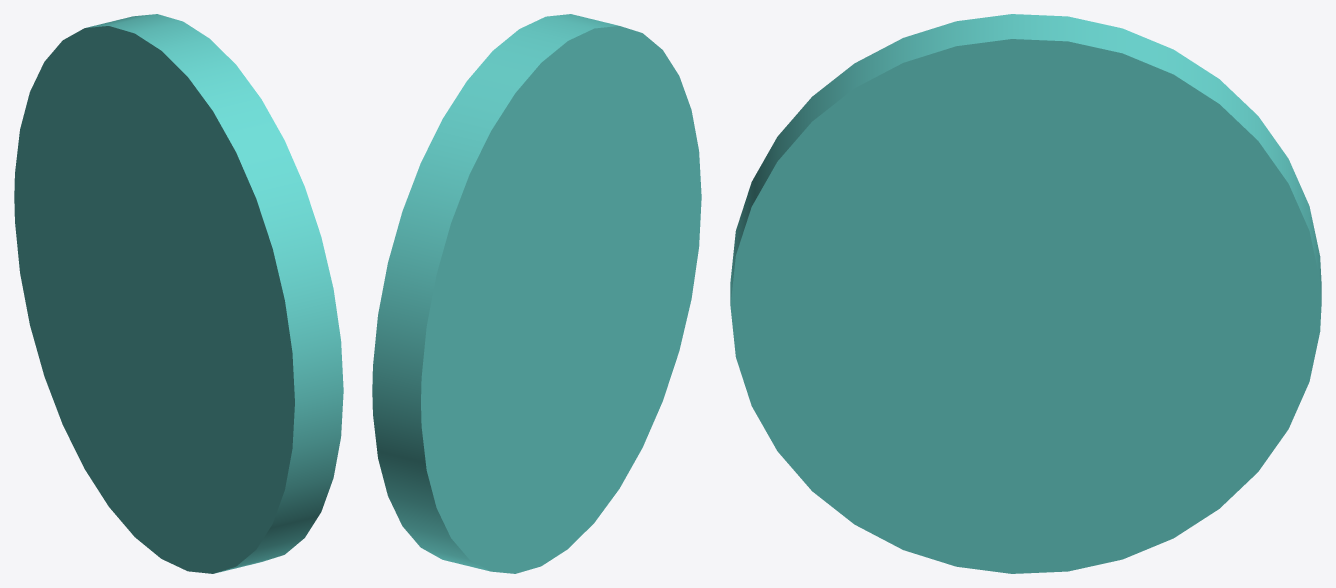
Rendered from Wheel_right.gltf.
The picture shows the model from 3 angles, left to right: view 1: azimuth 30°, elevation 25°; view 2: azimuth 150°, elevation 25°; view 3: azimuth 270°, elevation 25°; orthographic projection. The views are drawn at different scales.
Parts seen in each view (by area): view 1: mesh2, mesh1; view 2: mesh2, mesh1; view 3: mesh0, mesh1.
Boxes of the visible parts, left/top/right/bottom form: mesh2: left=14, top=26, right=294, bottom=573; mesh1: left=86, top=14, right=343, bottom=572; mesh2: left=421, top=26, right=701, bottom=573; mesh1: left=372, top=14, right=618, bottom=571; mesh0: left=730, top=39, right=1321, bottom=573; mesh1: left=730, top=14, right=1321, bottom=305.
Size of the model in its own units: 0.01 by 0.0999 by 0.1.
